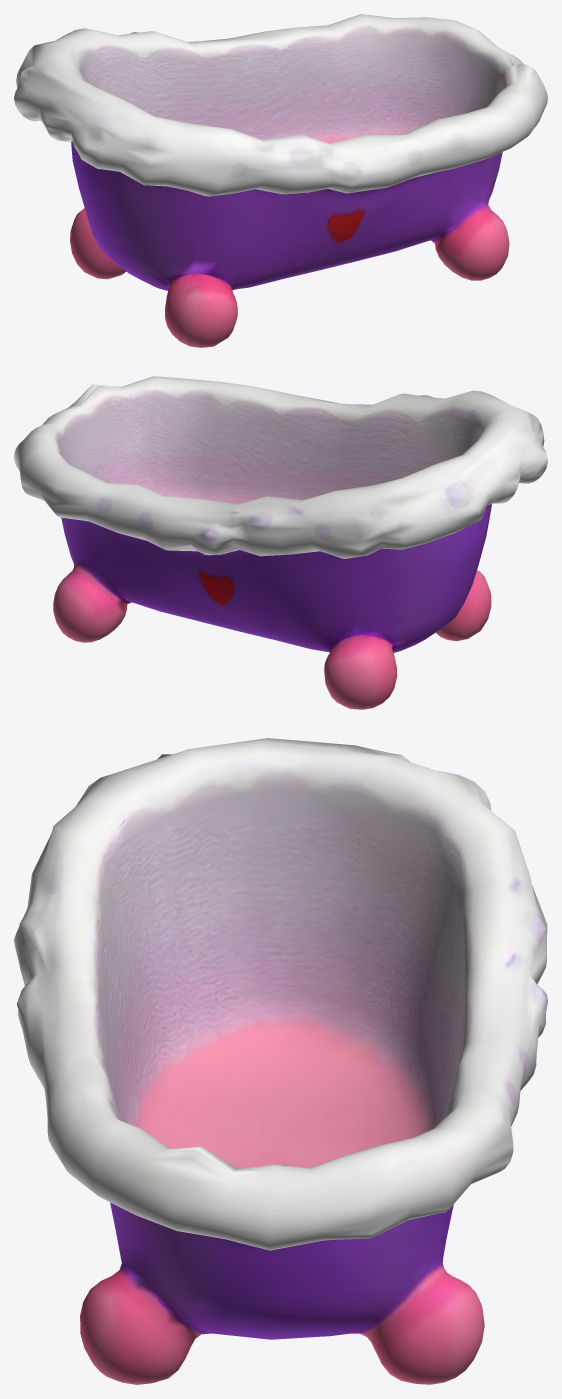
File: tub.glb
3 views of the same model, one above another, from view 1: azimuth 30°, elevation 25°; view 2: azimuth 150°, elevation 25°; view 3: azimuth 270°, elevation 25° (orthographic). The views are drawn at different scales.
Parts seen in each view (by area): view 1: Mesh0; view 2: Mesh0; view 3: Mesh0.
Part boxes in pixels (x1,y1,x2,y2): Mesh0: [14, 14, 547, 347]; Mesh0: [14, 376, 547, 709]; Mesh0: [14, 738, 547, 1384].
Bounding box in the file's own units: 2.06 × 1 × 1.3.
1 material, 1 textured.
